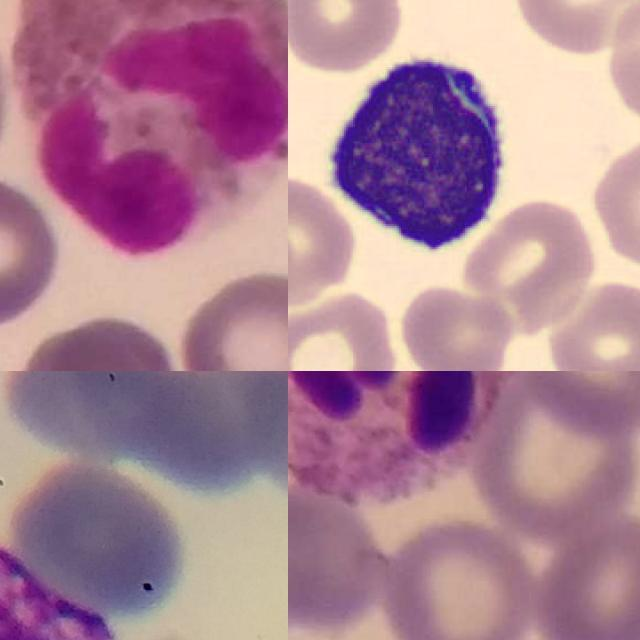Eosinophil: (10, 0, 288, 259)
Lymphocyte: (314, 39, 522, 259)
Neutrophil: (288, 371, 516, 504)
RBC: (460, 192, 600, 332), (393, 282, 518, 371), (288, 171, 358, 310), (288, 289, 401, 371), (544, 280, 640, 371), (288, 0, 406, 74), (506, 0, 640, 60), (585, 130, 640, 273), (603, 0, 640, 127)
